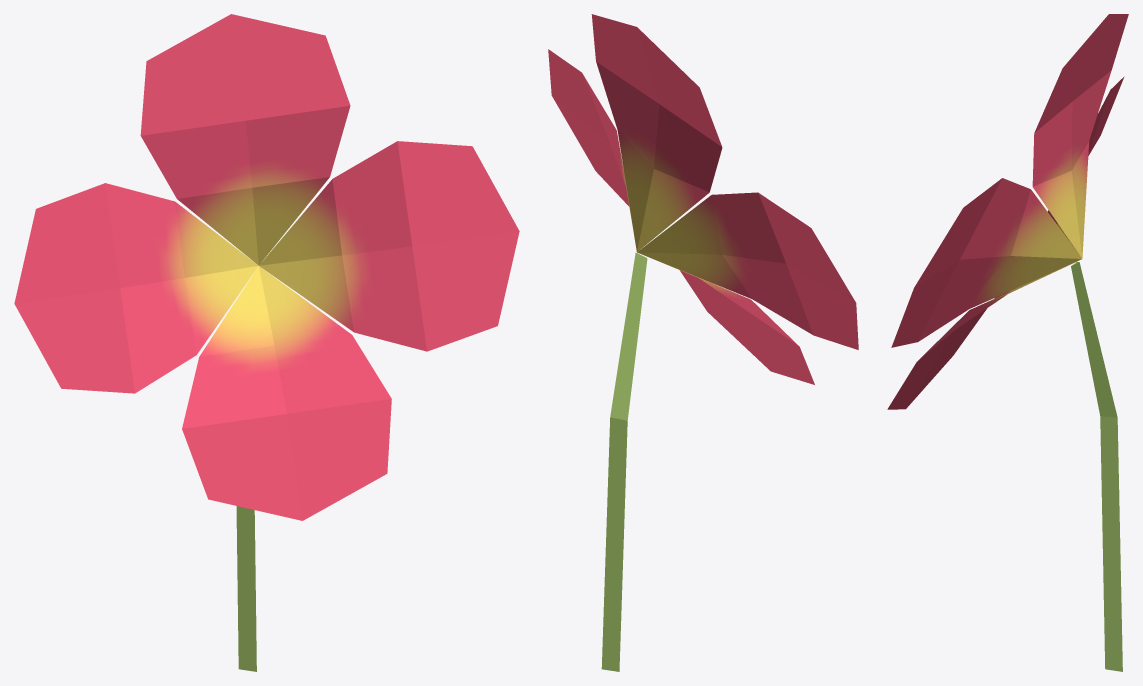
Rendered from Flower_c_OneS_03.fbx.
The picture shows the model from 3 angles, left to right: view 1: azimuth 30°, elevation 25°; view 2: azimuth 150°, elevation 25°; view 3: azimuth 270°, elevation 25°; orthographic projection. The views are drawn at different scales.
Visible parts, largest first — view 1: Flower_c_OneS_03; view 2: Flower_c_OneS_03; view 3: Flower_c_OneS_03.
Part boxes in pixels (box(x1,y1,x2,y2)): Flower_c_OneS_03: box(14, 14, 519, 671); Flower_c_OneS_03: box(548, 14, 858, 671); Flower_c_OneS_03: box(887, 14, 1128, 671).
Size of the model in its own units: 0.2961 by 0.458 by 0.1558.
